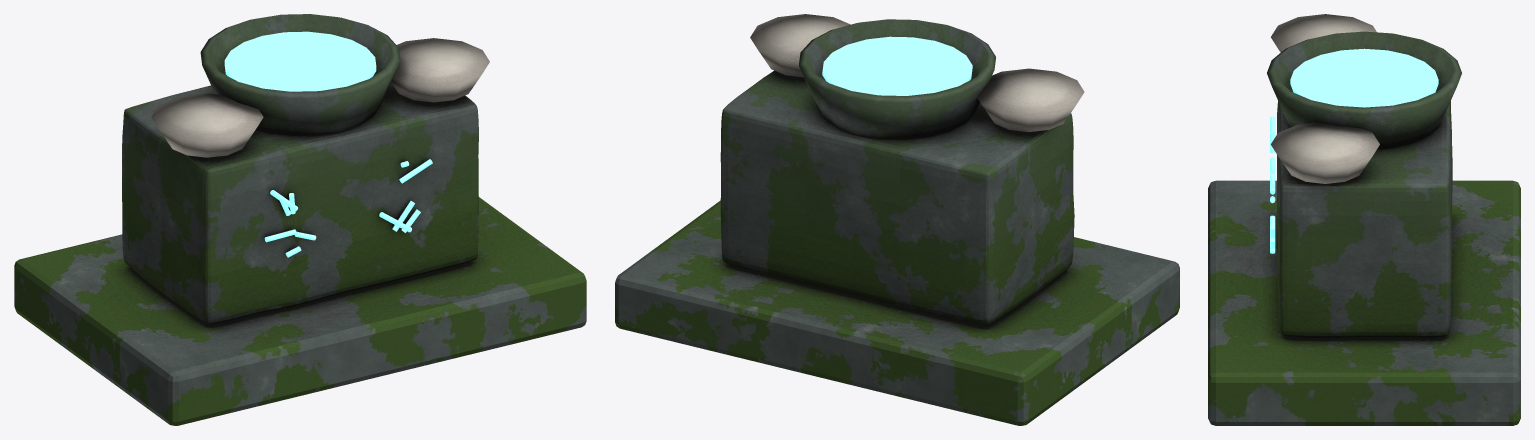
File: dg_altar_submerso.glb
3 renders of one model, left to right at view 1: azimuth 30°, elevation 25°; view 2: azimuth 150°, elevation 25°; view 3: azimuth 270°, elevation 25°, orthographic. The views are drawn at different scales.
Visible parts, largest first — view 1: dg_altar_submerso_tronco, agua_bacia; view 2: dg_altar_submerso_tronco, agua_bacia; view 3: dg_altar_submerso_tronco, agua_bacia.
Part boxes in pixels (left/top/right/bottom): dg_altar_submerso_tronco: left=14, top=14, right=586, bottom=425; agua_bacia: left=224, top=31, right=376, bottom=91; dg_altar_submerso_tronco: left=615, top=14, right=1179, bottom=425; agua_bacia: left=822, top=36, right=972, bottom=95; dg_altar_submerso_tronco: left=1208, top=14, right=1520, bottom=425; agua_bacia: left=1290, top=48, right=1438, bottom=107.
Bounding box in the file's own units: 2.4 × 1.47 × 1.6.
13 materials, 1 textured.
